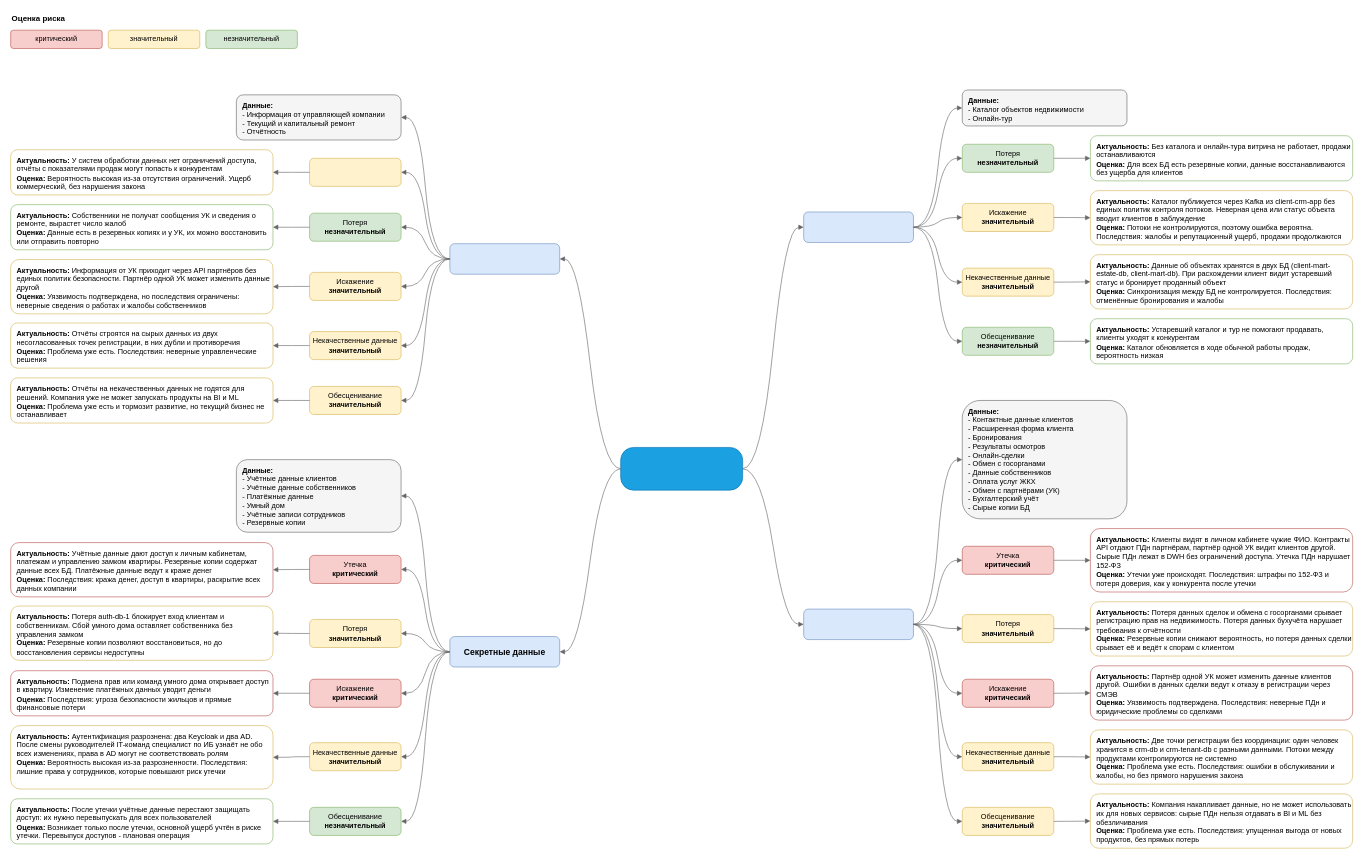
Some shapes in this 1363 by 859 pixel diagram are drawn without their labels. The box of each missing label's shape, as (x1, y1, x2, y2) in pixels:
Безопасность данных: (620, 447, 743, 490)
Внутренние данные: (449, 243, 560, 274)
Конфиденциальные данные: (803, 608, 913, 640)
Публичные данные: (803, 211, 913, 242)
Утечка значительный: (309, 158, 401, 186)
